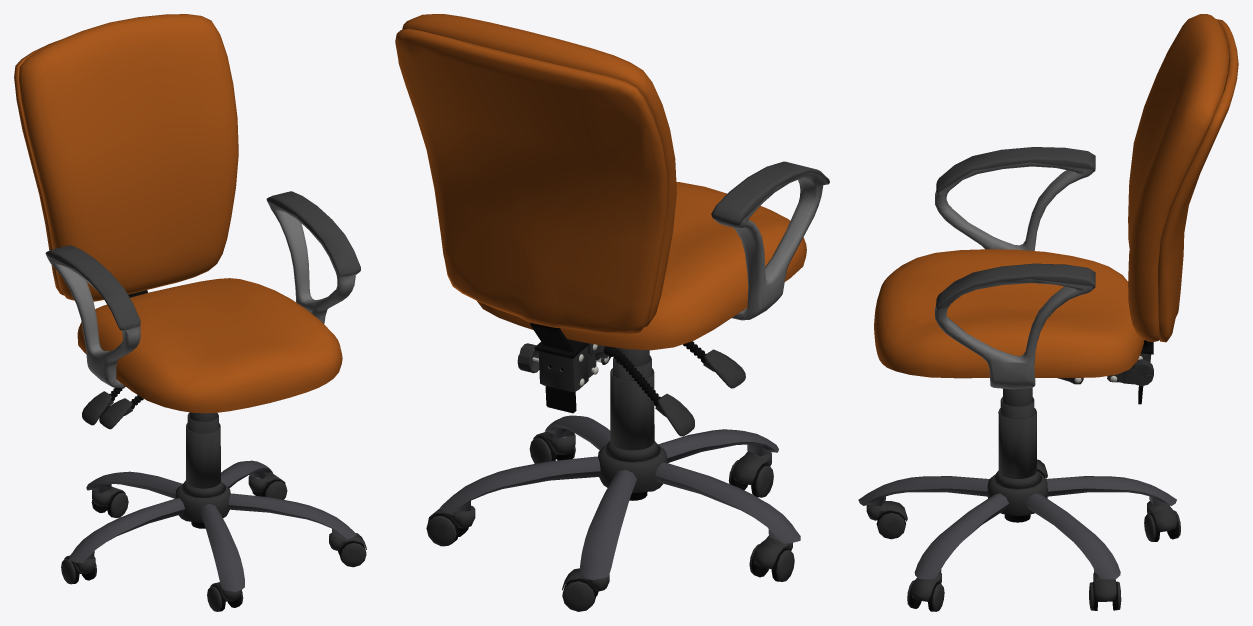
Rendered from chair3.dae.
3 renders of one model, left to right at view 1: azimuth 30°, elevation 25°; view 2: azimuth 150°, elevation 25°; view 3: azimuth 270°, elevation 25°, orthographic. The views are drawn at different scales.
Visible parts, largest first — view 1: _3DGeom_4_Defintion (×3), _3DGeom_6_Defintion (×5), _3DGeom_3_Defintion (×2), _3DGeom_8_Defintion (×2), _3DGeom_1_Defintion (×5); view 2: _3DGeom_4_Defintion (×3), _3DGeom_6_Defintion (×7), _3DGeom_1_Defintion (×11), _3DGeom_3_Defintion, _3DGeom_8_Defintion, _3DGeom_2_Defintion; view 3: _3DGeom_4_Defintion (×3), _3DGeom_6_Defintion (×6), _3DGeom_3_Defintion (×2), _3DGeom_1_Defintion (×8), _3DGeom_8_Defintion (×2).
Part boxes in pixels (bbox=[...]): _3DGeom_4_Defintion (×3): bbox=[14, 14, 342, 413]; _3DGeom_6_Defintion (×5): bbox=[69, 460, 356, 591]; _3DGeom_3_Defintion (×2): bbox=[47, 201, 357, 388]; _3DGeom_8_Defintion (×2): bbox=[45, 191, 360, 330]; _3DGeom_1_Defintion (×5): bbox=[82, 391, 366, 567]; _3DGeom_4_Defintion (×3): bbox=[395, 14, 806, 350]; _3DGeom_6_Defintion (×7): bbox=[439, 415, 800, 579]; _3DGeom_1_Defintion (×11): bbox=[426, 345, 792, 611]; _3DGeom_3_Defintion: bbox=[714, 172, 828, 320]; _3DGeom_8_Defintion: bbox=[711, 161, 829, 225]; _3DGeom_2_Defintion: bbox=[530, 322, 574, 413]; _3DGeom_4_Defintion (×3): bbox=[874, 14, 1238, 378]; _3DGeom_6_Defintion (×6): bbox=[858, 476, 1176, 579]; _3DGeom_3_Defintion (×2): bbox=[935, 162, 1093, 389]; _3DGeom_1_Defintion (×8): bbox=[877, 387, 1177, 601]; _3DGeom_8_Defintion (×2): bbox=[936, 147, 1095, 309].
Size of the model in its own units: 22.96 by 27.26 by 40.09.
